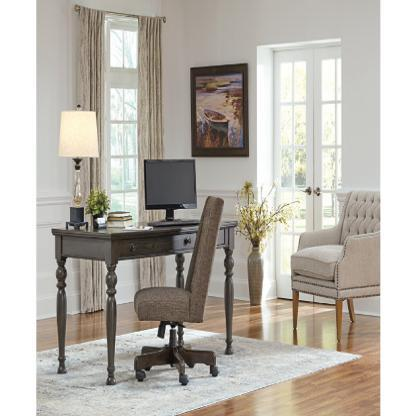chair: (130, 187, 229, 388), (292, 173, 381, 349)
light: (54, 94, 111, 239)
table: (43, 209, 242, 390)
